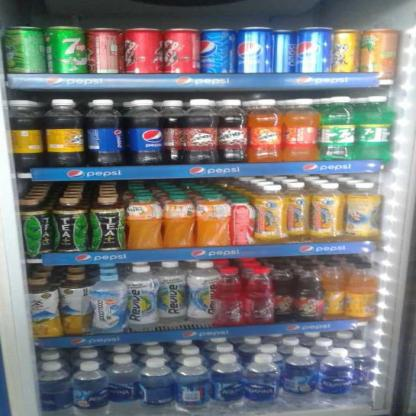7up: (42, 22, 88, 75)
7up-chai: (352, 93, 396, 162), (317, 98, 358, 162)
aquafina: (314, 342, 356, 411), (279, 344, 322, 411), (204, 352, 247, 415), (240, 350, 282, 412), (135, 355, 178, 415), (170, 354, 212, 412), (104, 351, 142, 415), (31, 360, 74, 416), (68, 363, 111, 415), (345, 338, 378, 392)
goodmood: (85, 273, 131, 332)
mirinda-cam-chai: (242, 97, 288, 163), (277, 98, 321, 162)
mirinda-sodakem: (1, 22, 47, 76)
mirinda-xaxi: (83, 24, 125, 74)
mirinda-xaxi-chai: (38, 95, 86, 166), (6, 96, 44, 170), (182, 95, 220, 164), (156, 97, 192, 165), (214, 96, 249, 163)
olong-tea: (48, 194, 92, 254), (85, 192, 128, 248), (17, 197, 53, 256)
olong-teaplus: (55, 271, 97, 335), (28, 273, 64, 339)
pepsi-blue: (233, 24, 275, 77), (196, 26, 239, 74), (292, 24, 332, 72), (266, 26, 298, 75)
pepsi-blue-chai: (80, 96, 125, 166), (121, 96, 166, 166)
revive-chanhmuoi-chai: (340, 182, 386, 239), (306, 180, 348, 239), (250, 183, 291, 242), (282, 182, 315, 243)
revive-white-chai: (152, 258, 190, 325), (122, 264, 160, 330), (185, 258, 219, 324)
sting-cafe-chai: (291, 263, 327, 322), (270, 260, 300, 320)
sting-red: (121, 25, 166, 74), (158, 24, 202, 74)
sting-red-chai: (209, 265, 247, 324), (242, 263, 278, 323)
sting-yellow: (329, 26, 363, 74)
sting-yellow-chai: (343, 260, 379, 320), (318, 259, 348, 318)
twister-cam: (121, 192, 164, 246), (192, 190, 230, 248), (159, 195, 197, 245)
twister-cam-lon: (358, 24, 401, 80)
twister-dau: (228, 195, 260, 244)
